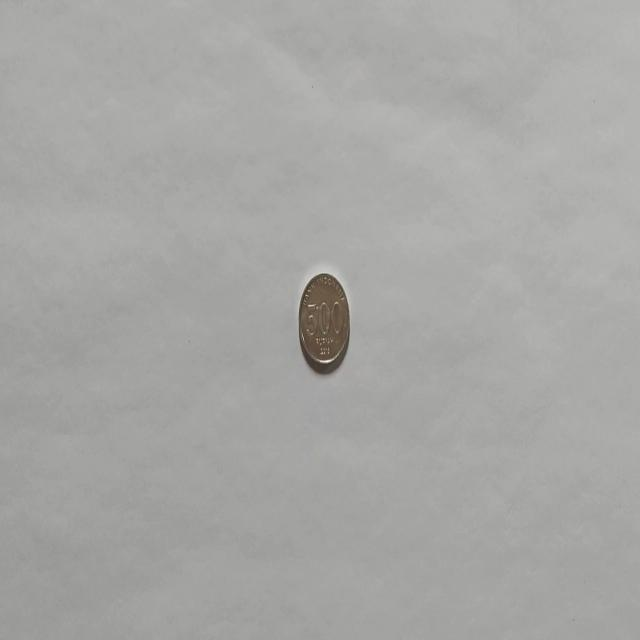lima ratus rupiah: (298, 271, 350, 373)
